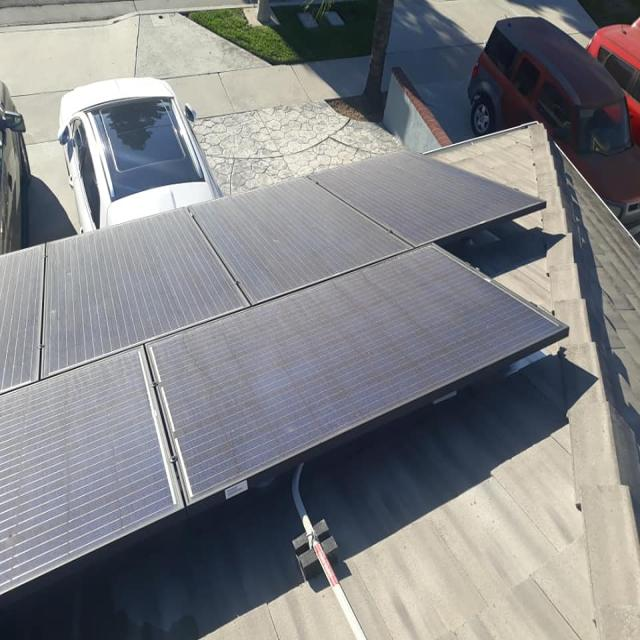dust-solar-panel: (0, 150, 564, 603)
